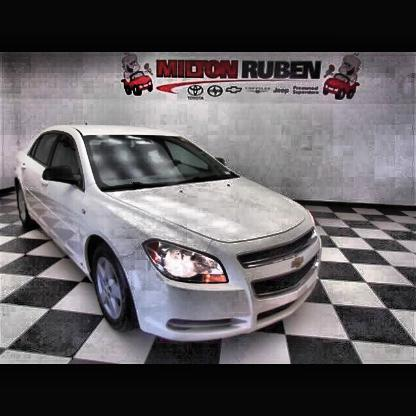Chevrolet Malibu Hybrid Sedan 2010: (15, 127, 326, 346)
